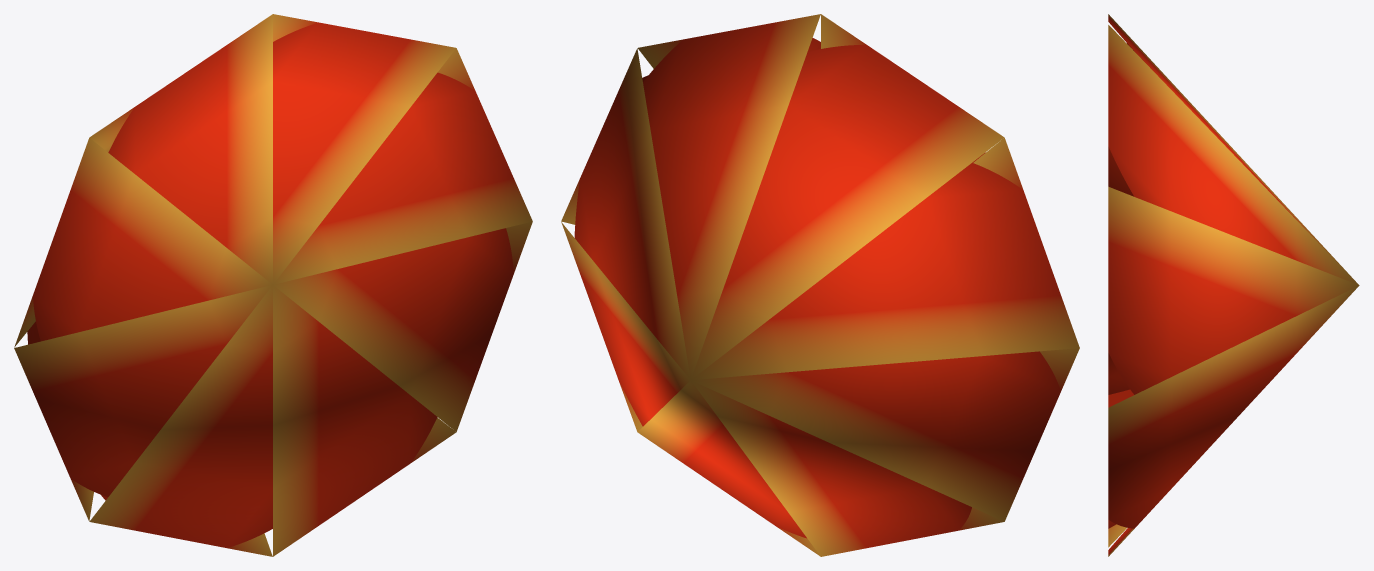
The picture shows the model from 3 angles, left to right: view 1: azimuth 30°, elevation 25°; view 2: azimuth 150°, elevation 25°; view 3: azimuth 270°, elevation 25°; orthographic projection. The views are drawn at different scales.
Parts seen in each view (by area): view 1: T1L4M003_1; view 2: T1L4M003_1; view 3: T1L4M003_1.
Part boxes in pixels (<box>): T1L4M003_1: <box>14,14,532,556</box>; T1L4M003_1: <box>561,14,1079,556</box>; T1L4M003_1: <box>1108,14,1359,556</box>.
Bounding box in the file's own units: 0.458 × 0.458 × 0.1992.
